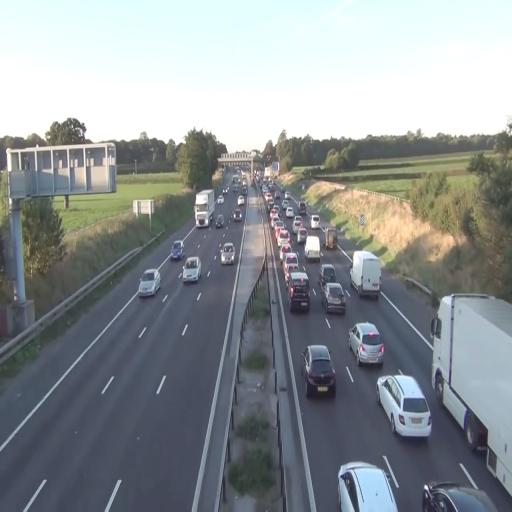vehicle: (430, 294, 512, 497), (376, 373, 432, 438), (338, 459, 398, 512), (422, 474, 502, 512), (303, 343, 336, 397), (350, 251, 382, 302), (349, 321, 384, 365), (288, 269, 310, 314), (195, 188, 215, 227), (194, 189, 214, 227), (323, 281, 346, 314), (139, 268, 160, 297), (182, 255, 201, 283), (218, 240, 236, 266), (304, 236, 321, 262), (170, 240, 184, 260), (232, 204, 244, 222), (214, 210, 224, 228)
